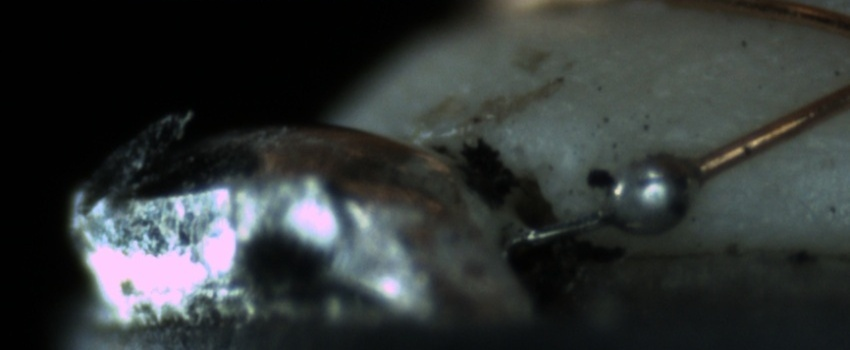DL: (659, 125, 849, 163)
TB: (594, 150, 693, 252)
TS: (524, 153, 699, 252)
TTCW: (519, 135, 751, 249)
